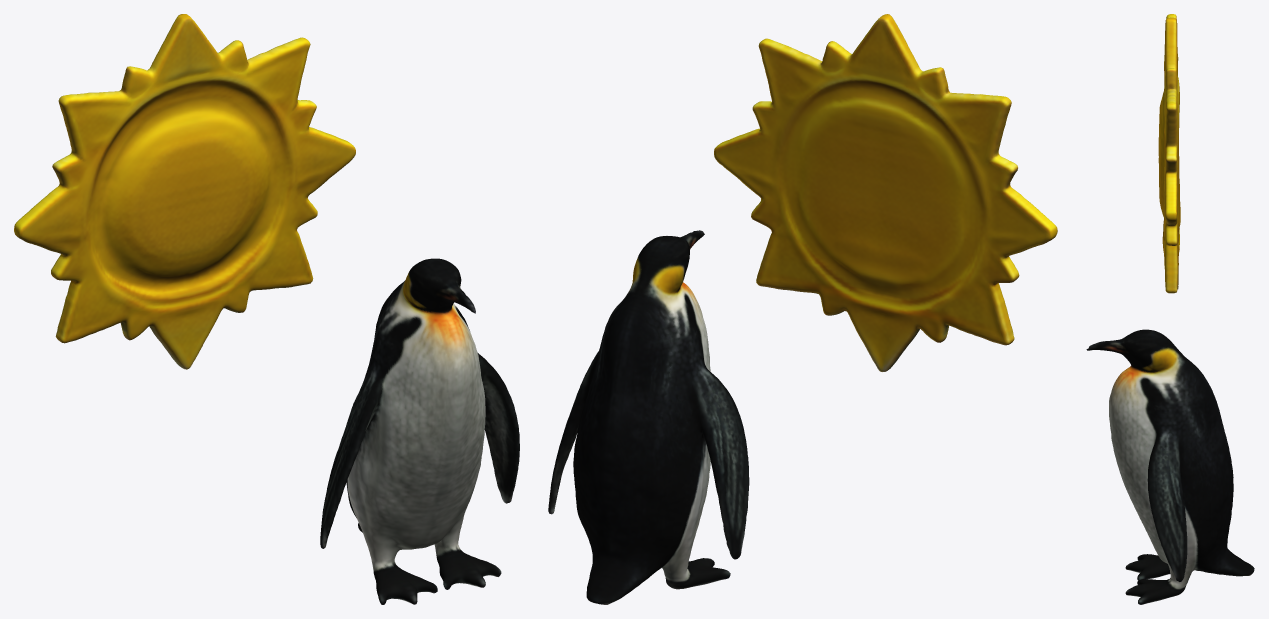
The model's file is pinguin_sun.glb.
3 views of the same model, side by side, from view 1: azimuth 30°, elevation 25°; view 2: azimuth 150°, elevation 25°; view 3: azimuth 270°, elevation 25° (orthographic). The views are drawn at different scales.
Visible parts, largest first — view 1: Mesh_0.001, Mesh_0; view 2: Mesh_0.001, Mesh_0; view 3: Mesh_0, Mesh_0.001.
Part boxes in pixels (box(x1,y1,x2,y2)): Mesh_0.001: box(14, 14, 355, 369); Mesh_0: box(320, 258, 519, 604); Mesh_0.001: box(714, 14, 1057, 371); Mesh_0: box(548, 230, 749, 604); Mesh_0: box(1086, 329, 1254, 604); Mesh_0.001: box(1158, 14, 1180, 293).
Size of the model in its own units: 14.75 by 17.49 by 5.59.
2 materials, 2 textured.
